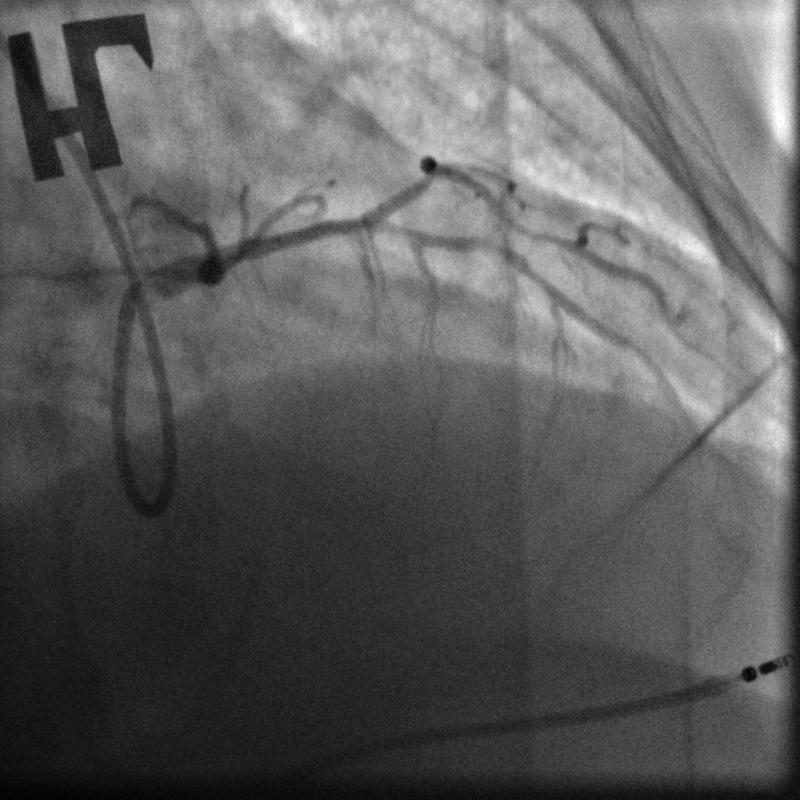Stenosis: (460, 231, 520, 264)
